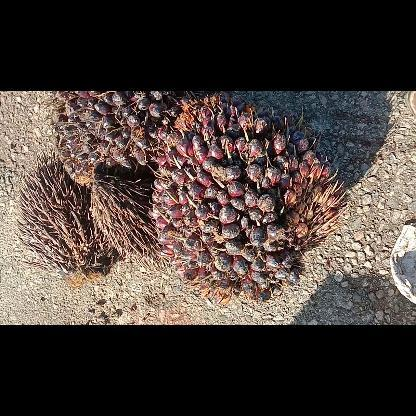Janjang kosong: (15, 150, 113, 286), (89, 174, 169, 272)
TBS mentah: (148, 90, 348, 302), (48, 90, 180, 186)
